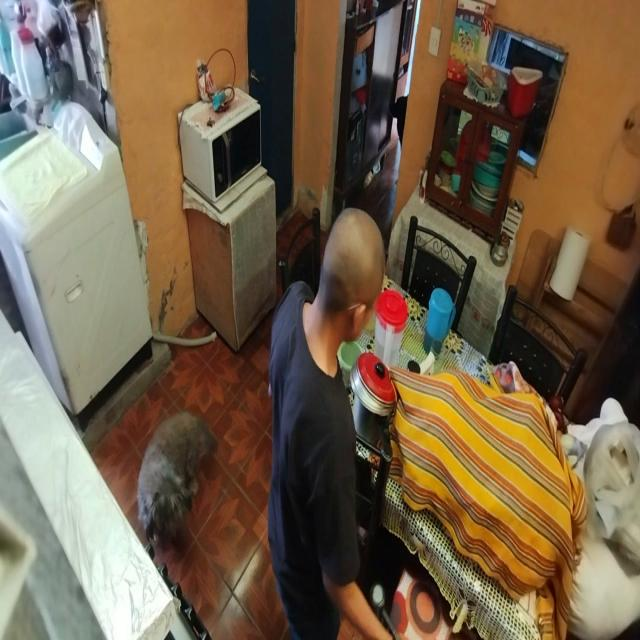adult: (267, 195, 403, 640)
